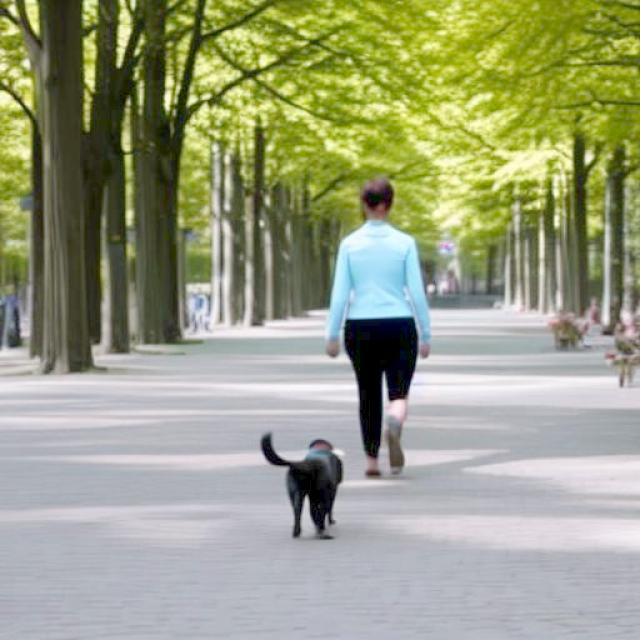Unleashed_Dog: (259, 317, 410, 540)
